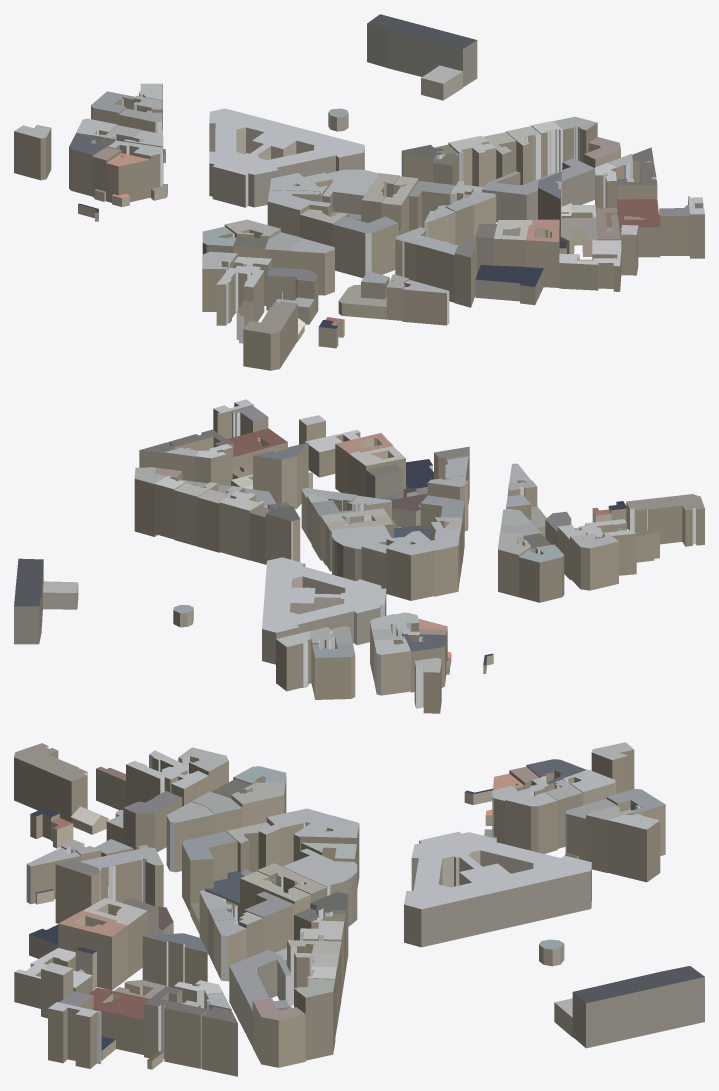
The picture shows the model from 3 angles, top to bottom: view 1: azimuth 30°, elevation 25°; view 2: azimuth 150°, elevation 25°; view 3: azimuth 270°, elevation 25°; orthographic projection. The views are drawn at different scales.
Parts seen in each view (by area): view 1: tuile; view 2: tuile; view 3: tuile.
Boxes of the visible parts, x1,y1,x2,y2 form: tuile: (14,14,704,370); tuile: (14,399,704,713); tuile: (14,742,704,1076).
Size of the model in its own units: 275 by 30.92 by 286.
